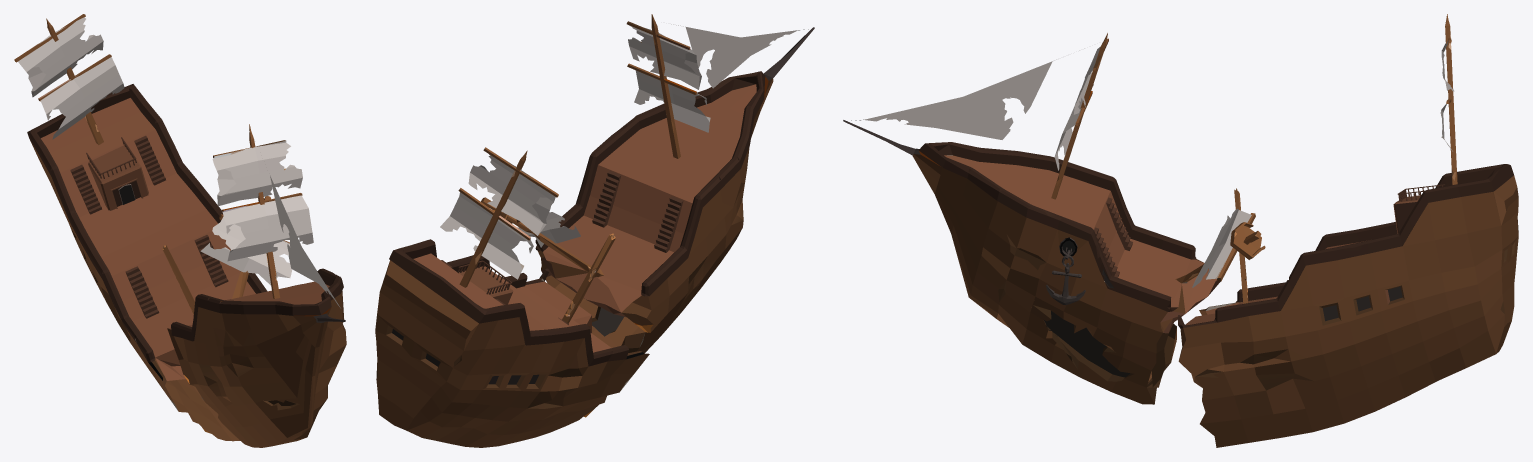
The model's file is Shipwreck.glb.
3 renders of one model, left to right at view 1: azimuth 30°, elevation 25°; view 2: azimuth 150°, elevation 25°; view 3: azimuth 270°, elevation 25°, orthographic. The views are drawn at different scales.
Parts seen in each view (by area): view 1: Object_4, Object_3; view 2: Object_4, Object_3; view 3: Object_4, Object_3.
Part boxes in pixels (x1,y1,x2,y2): Object_4: [14, 14, 346, 447]; Object_3: [18, 17, 340, 308]; Object_4: [375, 14, 814, 447]; Object_3: [440, 24, 797, 279]; Object_4: [843, 14, 1518, 447]; Object_3: [864, 40, 1454, 304].
Bounding box in the file's own units: 107 × 218 × 344.
1 material, 1 textured.
